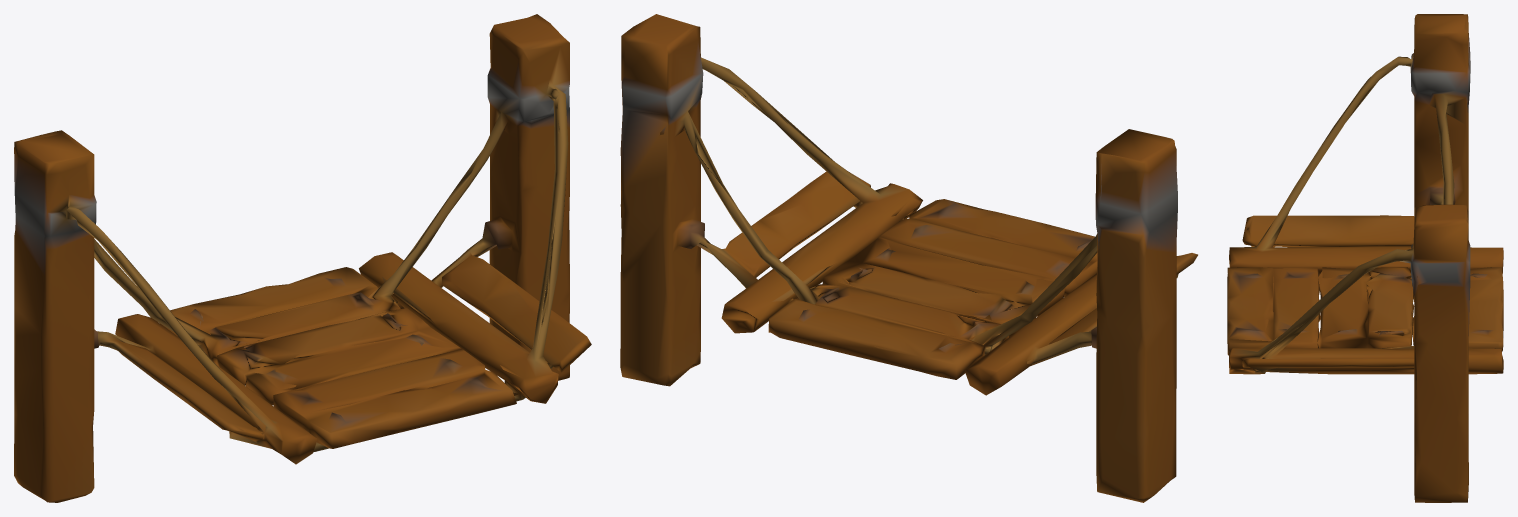
File: gen3d-plank-bridge-lod0.glb
The picture shows the model from 3 angles, left to right: view 1: azimuth 30°, elevation 25°; view 2: azimuth 150°, elevation 25°; view 3: azimuth 270°, elevation 25°; orthographic projection. The views are drawn at different scales.
Visible parts, largest first — view 1: part_0; view 2: part_0; view 3: part_0.
Part boxes in pixels (<box>): part_0: <box>14,14,591,502</box>; part_0: <box>620,14,1197,502</box>; part_0: <box>1227,14,1503,502</box>.
Size of the model in its own units: 1.62 by 1 by 0.8937.
